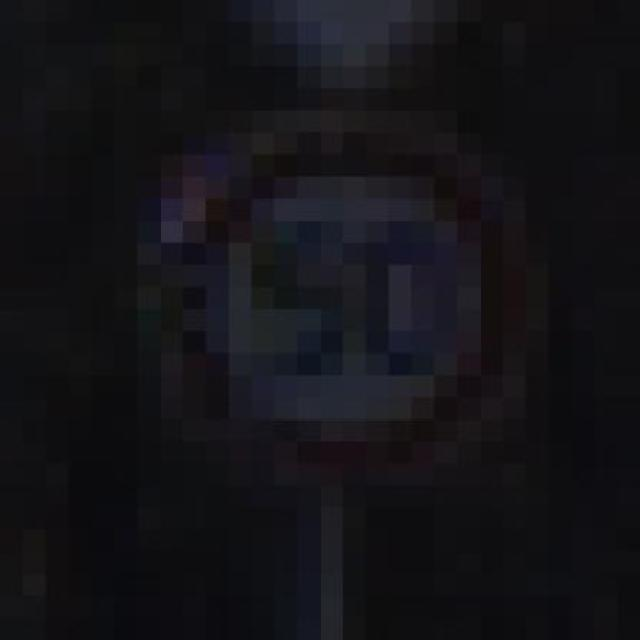50 mph speed limit: (114, 110, 572, 485)
